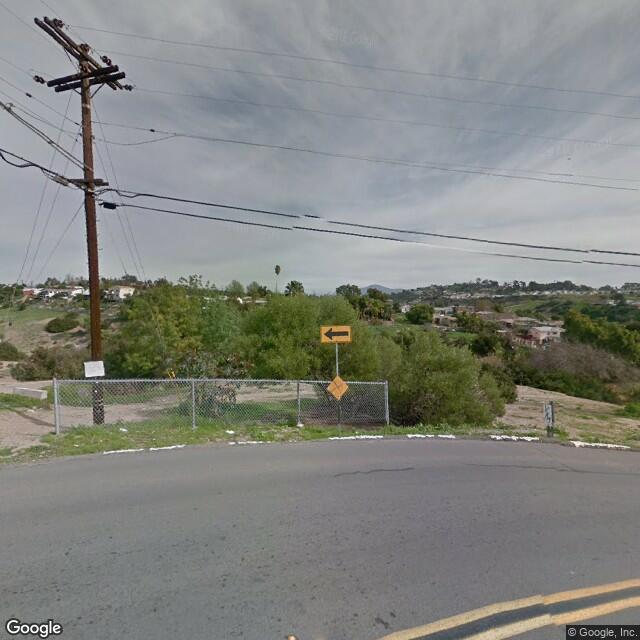litter: (222, 428, 237, 439), (114, 424, 125, 431)
